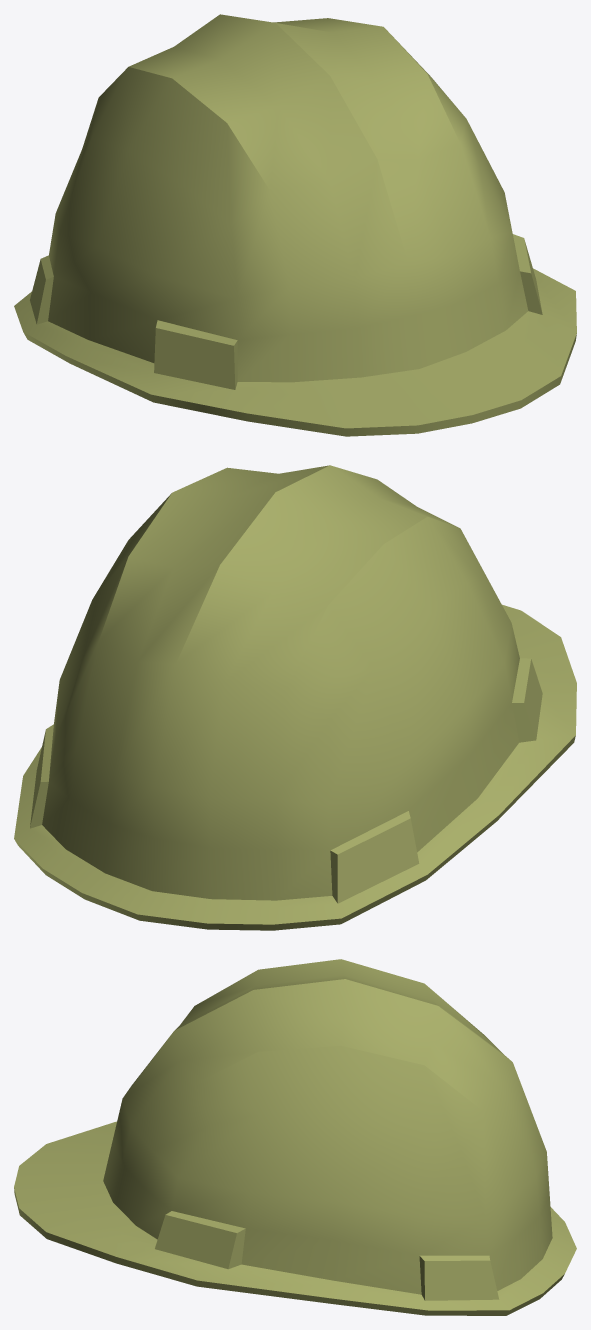
File: seguranca-obj_capacete.fbx
The picture shows the model from 3 angles, top to bottom: view 1: azimuth 30°, elevation 25°; view 2: azimuth 150°, elevation 25°; view 3: azimuth 270°, elevation 25°; orthographic projection. The views are drawn at different scales.
Visible parts, largest first — view 1: Capacete; view 2: Capacete; view 3: Capacete.
Boxes of the visible parts, bbox=[...] form: Capacete: bbox=[14, 14, 576, 436]; Capacete: bbox=[14, 465, 576, 930]; Capacete: bbox=[14, 959, 576, 1315].
Bounding box in the file's own units: 5.99 × 4.34 × 8.02.
